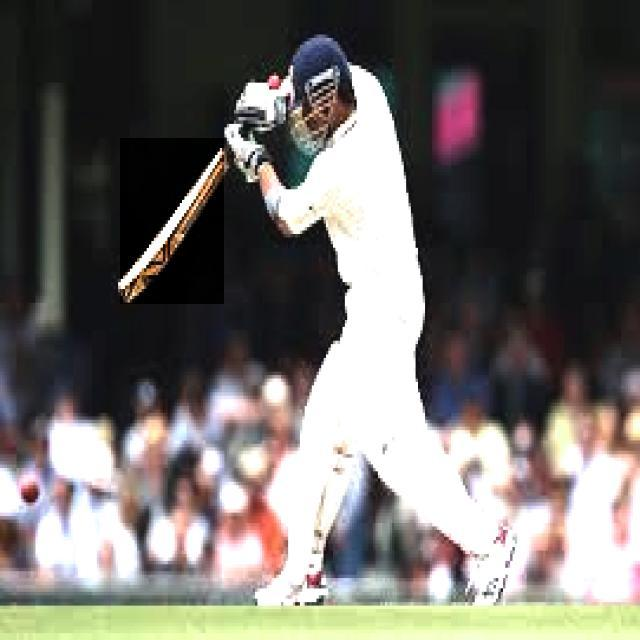bat: (111, 150, 230, 308)
toe: (111, 281, 130, 307)
